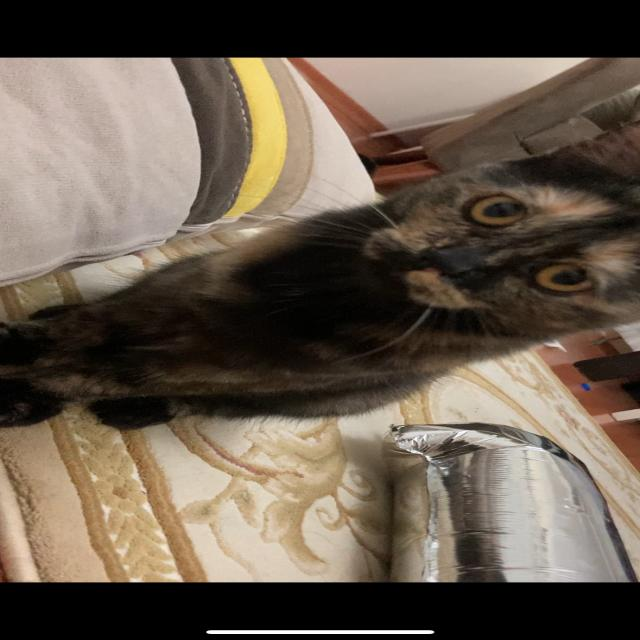authorized: (2, 145, 638, 431)
